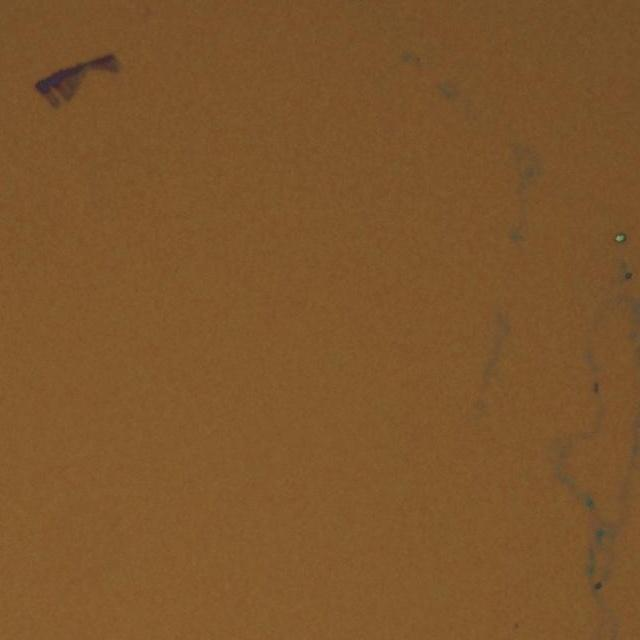monolayer-eWW4: (44, 66, 84, 109)
